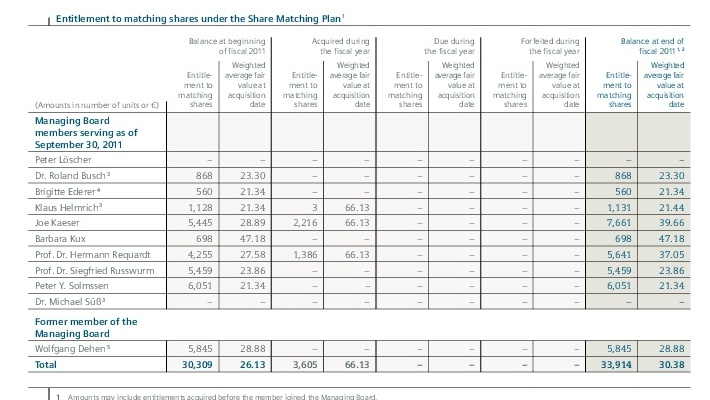table: (0, 0, 710, 400)
